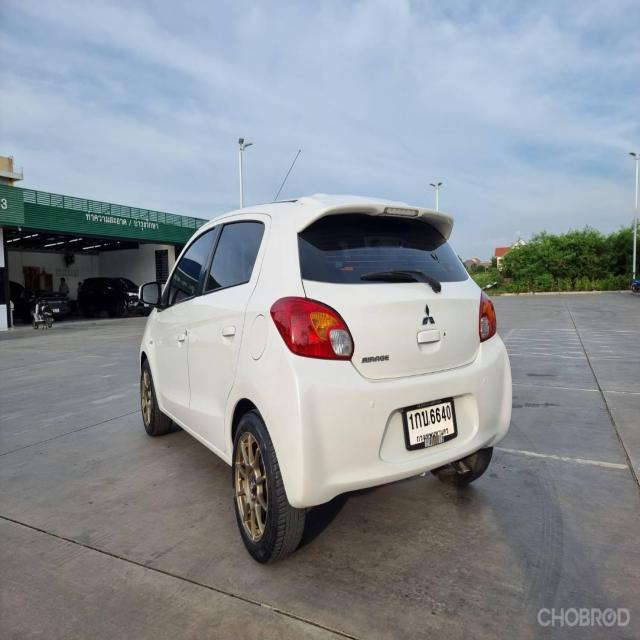license_plate: (400, 394, 458, 454)
